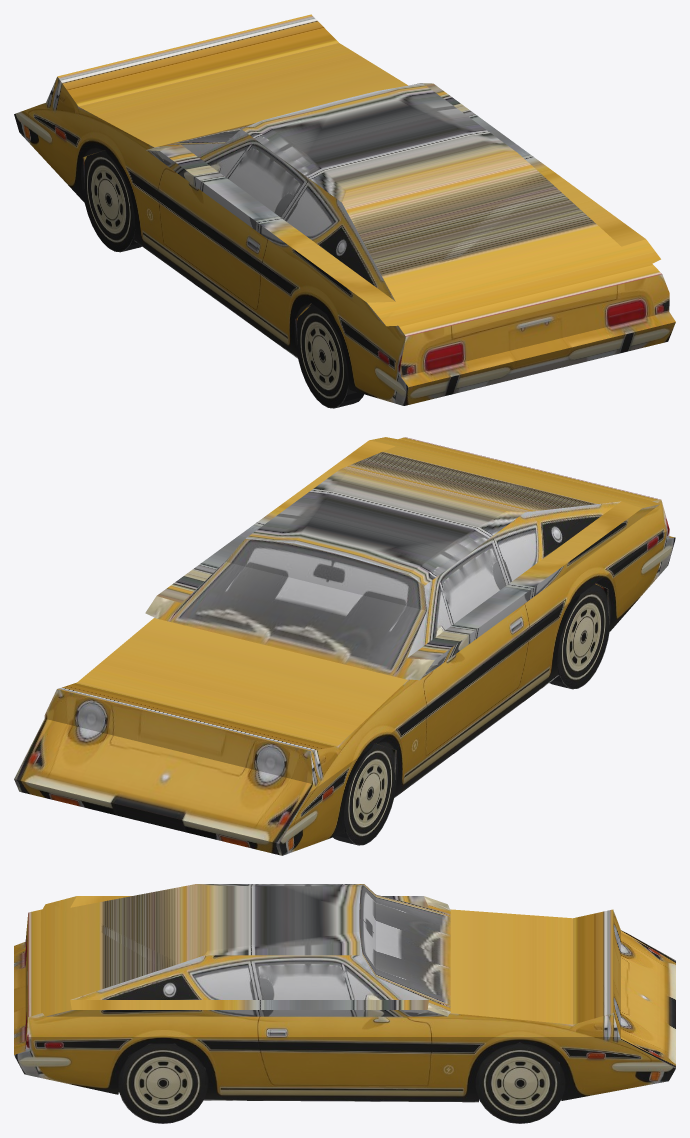
Rendered from sports_car.glb.
The picture shows the model from 3 angles, top to bottom: view 1: azimuth 30°, elevation 25°; view 2: azimuth 150°, elevation 25°; view 3: azimuth 270°, elevation 25°; orthographic projection. The views are drawn at different scales.
Parts seen in each view (by area): view 1: sports_car, wheel_BL, wheel_FL; view 2: sports_car, wheel_BL, wheel_FL; view 3: sports_car, wheel_BR, wheel_FR.
Boxes of the visible parts, x1,y1,x2,y2 form: sports_car: (14, 14, 675, 405); wheel_BL: (296, 304, 363, 408); wheel_FL: (82, 150, 141, 252); sports_car: (14, 437, 675, 855); wheel_BL: (549, 584, 610, 689); wheel_FL: (333, 743, 396, 845); sports_car: (14, 884, 675, 1102); wheel_BR: (118, 1043, 207, 1123); wheel_FR: (475, 1042, 564, 1123).
Bounding box in the file's own units: 1.81 × 1.17 × 4.5.
3 materials, 1 textured.
